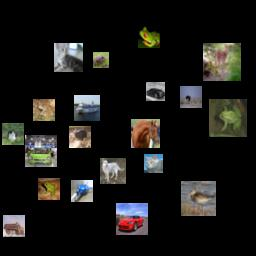airplane: (71, 180, 93, 202)
automobile: (25, 135, 57, 167), (116, 203, 148, 235), (146, 82, 165, 101)
bird: (181, 181, 216, 216), (180, 86, 202, 108), (69, 126, 91, 148)
cat: (54, 43, 83, 72), (2, 123, 24, 145), (144, 154, 163, 173)
deer: (203, 43, 241, 81)
dog: (100, 158, 126, 184)
frog: (209, 99, 247, 137), (33, 99, 55, 121), (38, 178, 60, 200), (138, 26, 160, 48), (93, 52, 109, 68)
ship: (74, 95, 100, 121)
truck: (3, 215, 25, 237)
